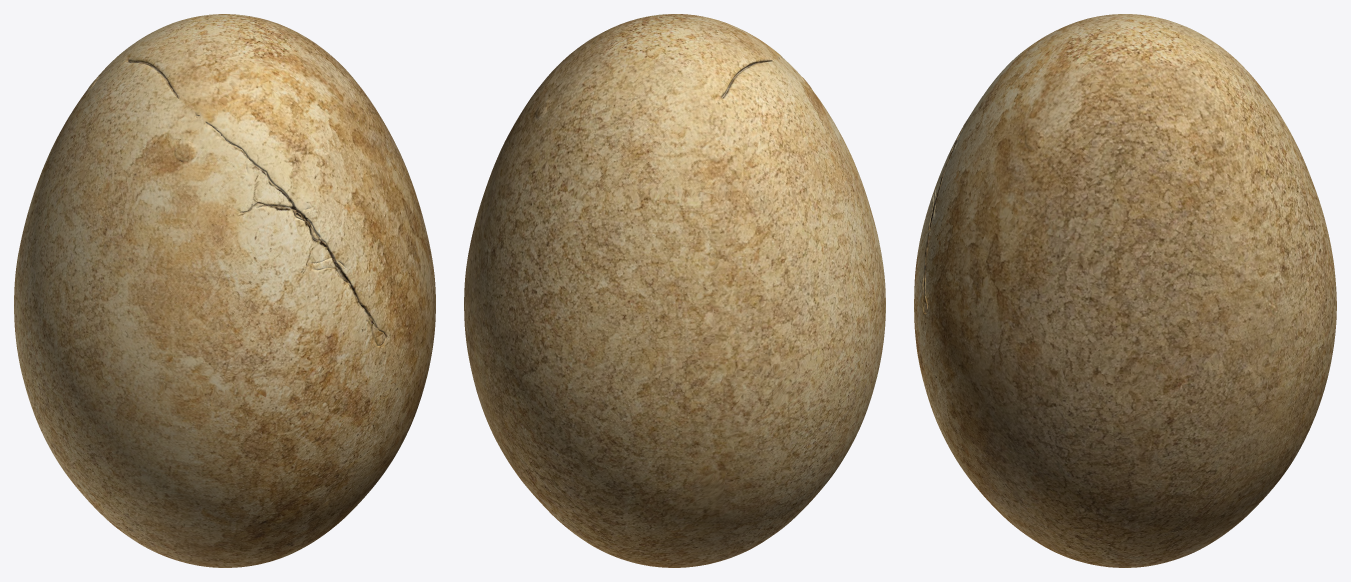
File: 04_egg.glb
The picture shows the model from 3 angles, left to right: view 1: azimuth 30°, elevation 25°; view 2: azimuth 150°, elevation 25°; view 3: azimuth 270°, elevation 25°; orthographic projection.
Visible parts, largest first — view 1: tripo_04_egg; view 2: tripo_04_egg; view 3: tripo_04_egg.
Boxes of the visible parts, x1,y1,x2,y2 form: tripo_04_egg: (14,14,435,567); tripo_04_egg: (464,14,885,567); tripo_04_egg: (914,14,1336,567).
Bounding box in the file's own units: 0.7287 × 1 × 0.7298.
1 material, 1 textured.
